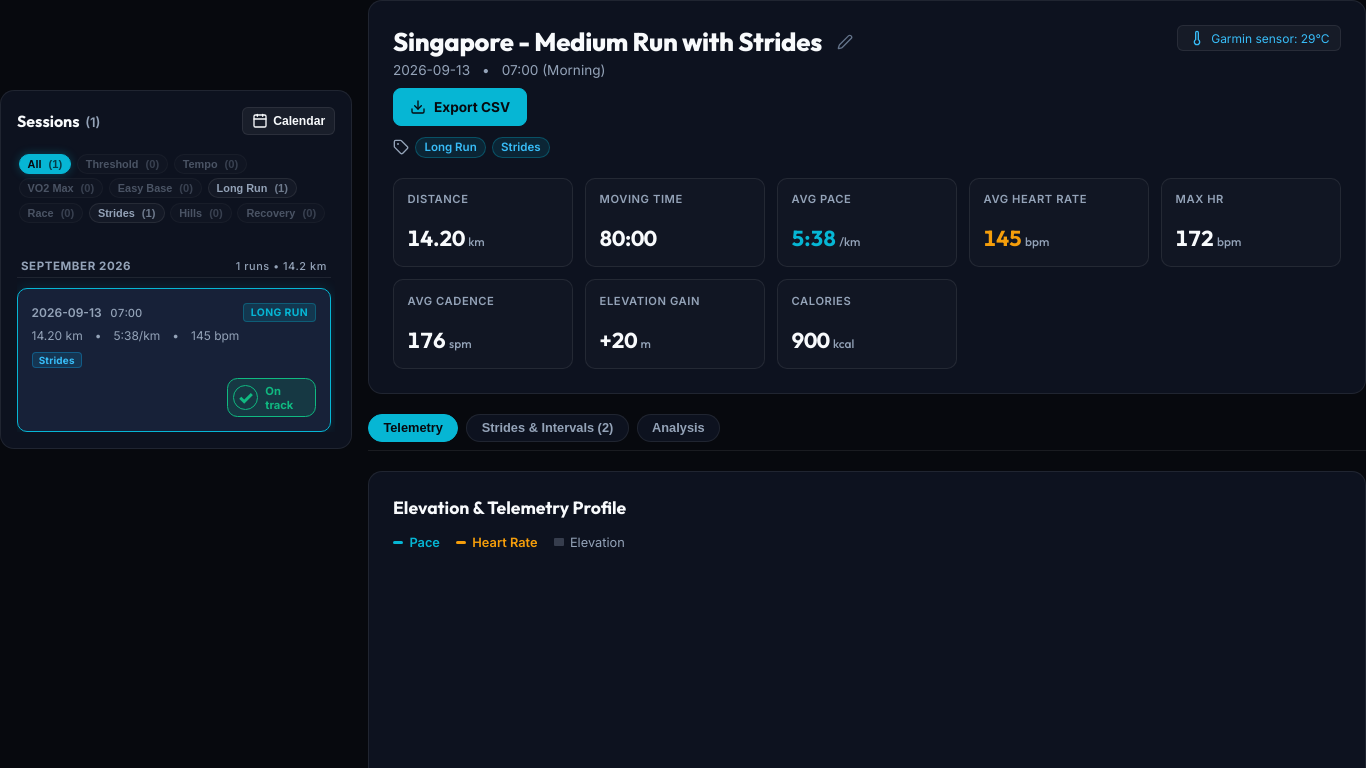
Test: BrowseView User Flow & Navigation Tests › renders tags on sidebar cards and displays score aligned on the right below tags
The image size is (1366, 768).
expect the element titled "On track" is shown: met, box [227,378,316,418]
expect the element titled "On track" shows "✓": met, box [238,386,254,408]
Note: Check intervals table work reps toggle & peak HR
Click the button "Strides & Intervals (2)" at (548, 428), box [466,414,629,442]
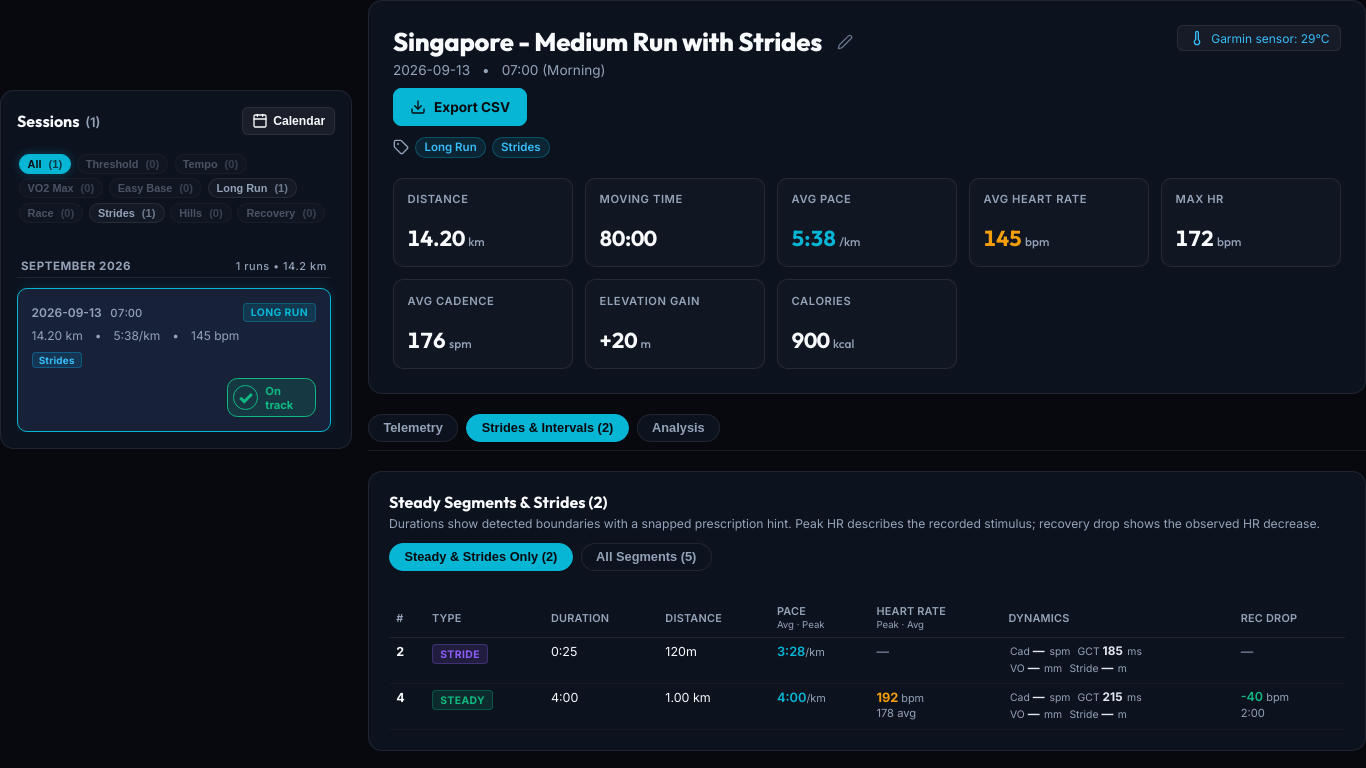
expect the button "Steady & Strides Only (2)" is shown: met, box [389,543,573,571]
expect the button "All Segments (5)" is shown: met, box [581,543,712,571]
expect the text "192" is shown: met, box [876,690,898,705]
